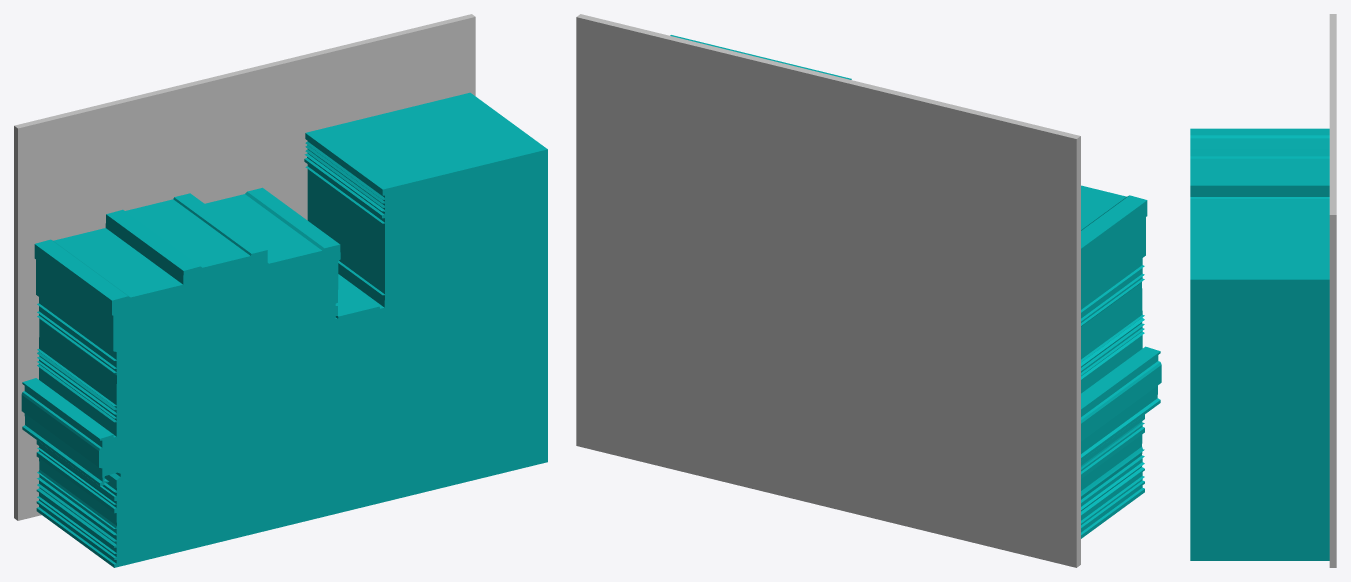
The picture shows the model from 3 angles, left to right: view 1: azimuth 30°, elevation 25°; view 2: azimuth 150°, elevation 25°; view 3: azimuth 270°, elevation 25°; orthographic projection. The views are drawn at different scales.
Visible parts, largest first — view 1: world; view 2: world; view 3: world.
Boxes of the visible parts, <box> form: world: <box>14,14,547,567</box>; world: <box>576,14,1161,567</box>; world: <box>1190,14,1336,567</box>.
Bounding box in the file's own units: 10.23 × 8.38 × 3.15.
